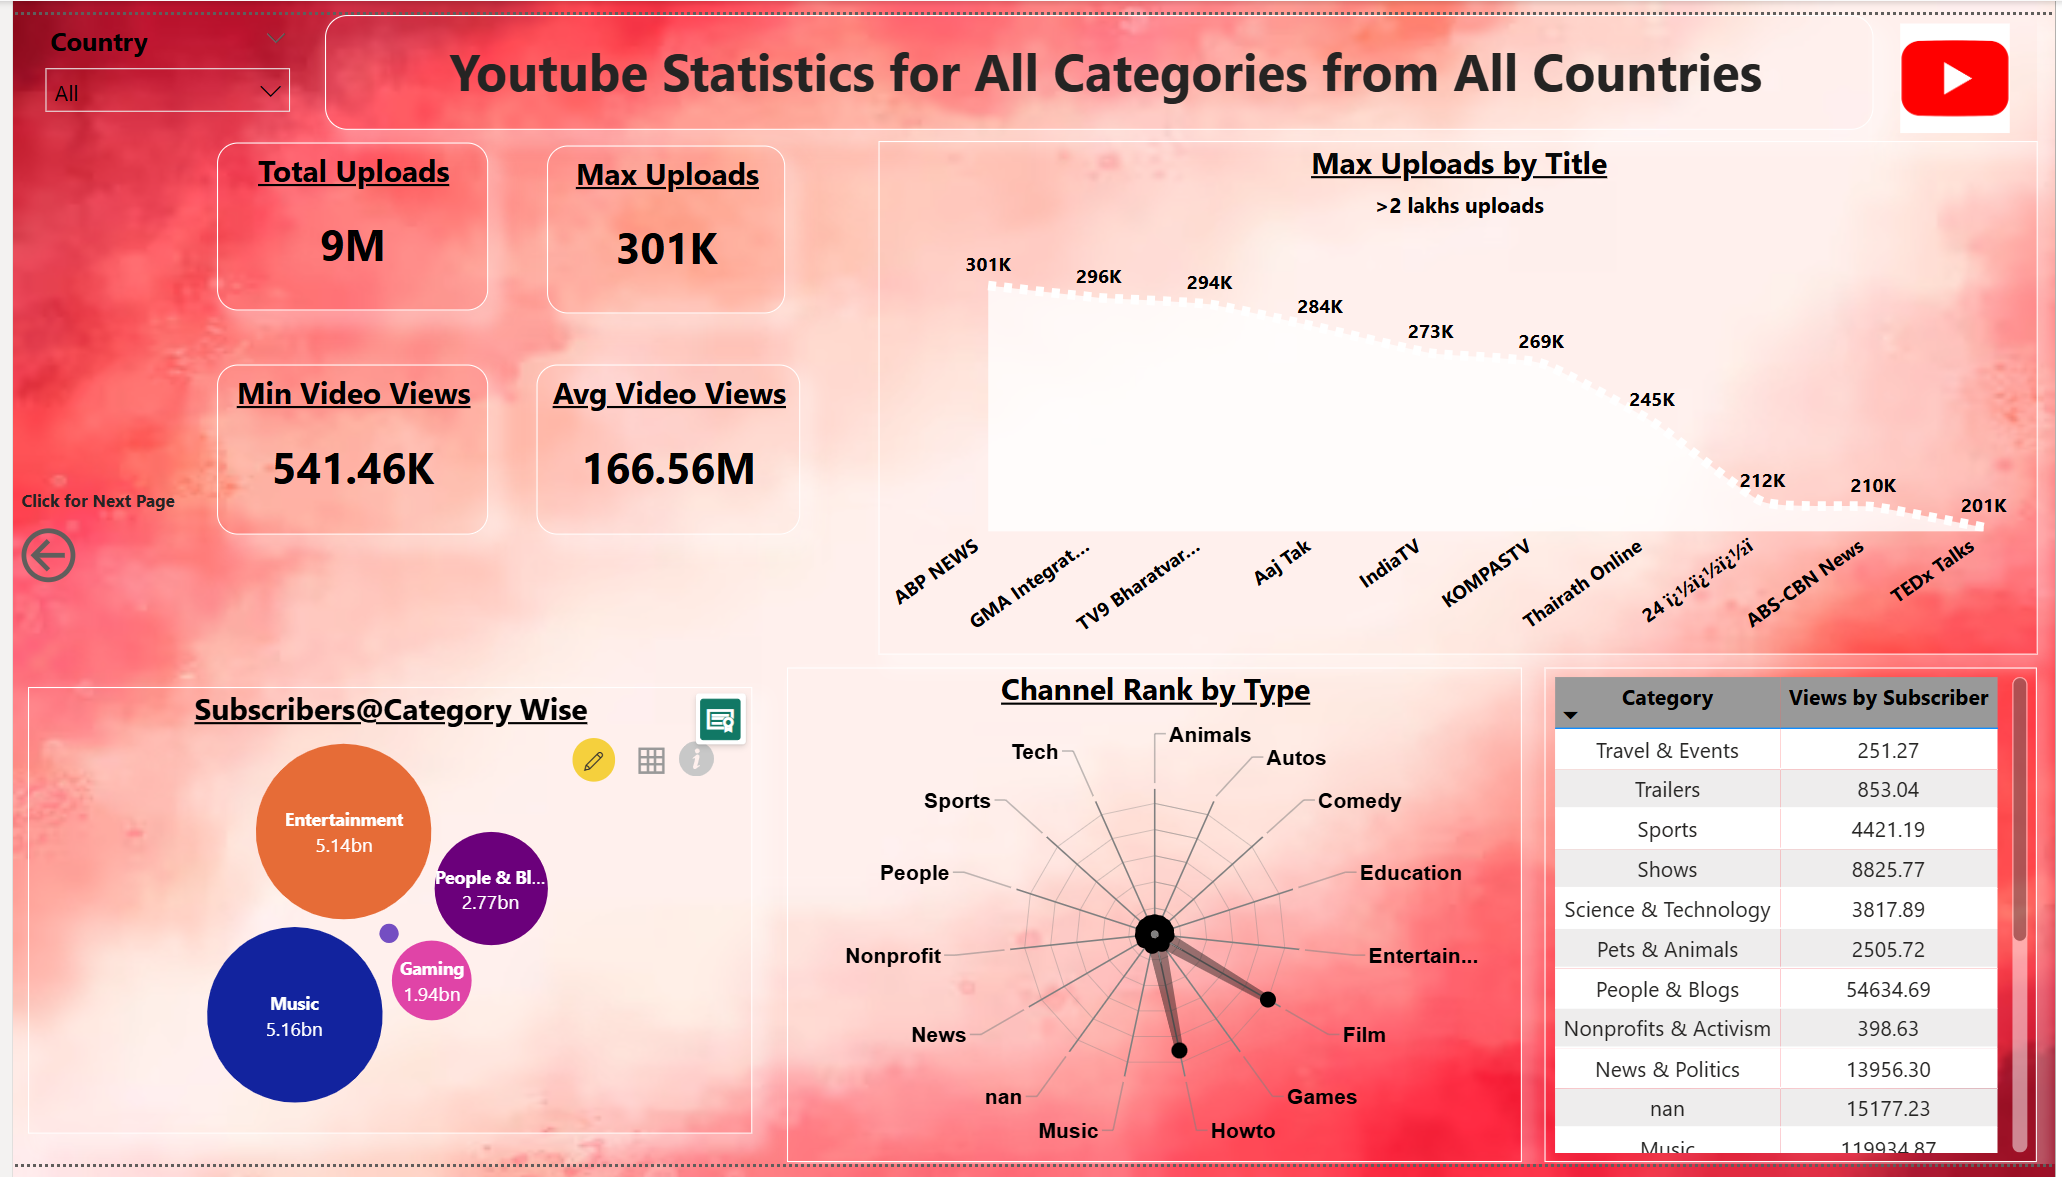

What the dashboard file says about the page in this screenshot:
{"tool":"powerbi","page":{"name":"Statistics 1","canvas":[1280,720],"ordinal":0},"visuals":[{"type":"card","title":"Max Uploads","fields":{"Values":["Max(Global YouTube Statistics.uploads)"]},"box":[335.2,81.4,149.6,105.3],"z":0},{"type":"card","title":"Min Video Views","fields":{"Values":["Avg(Global YouTube Statistics.video_views_rank)"]},"box":[128.1,219.1,170,106.5],"z":1000},{"type":"card","title":"Avg Video Views","fields":{"Values":["Avg(Global YouTube Statistics.video_views_for_the_last_30_days)"]},"box":[328,219.1,165.2,106.5],"z":2000},{"type":"image","box":[1164.7,0,104.1,79],"z":3000},{"type":"lineChart","title":"Max Uploads by Title","fields":{"Category":["Global YouTube Statistics.Title"],"Y":["Max(Global YouTube Statistics.uploads)"]},"box":[542.2,79,726.6,322],"z":4000},{"type":"RadarChart1446119667547","title":"Channel Rank by Type","fields":{"Category":["Global YouTube Statistics.channel_type"],"Y":["Min(Global YouTube Statistics.channel_type_rank)"]},"box":[484.8,409.4,460.9,310],"z":5000},{"type":"packedBubble563FBEFA65CC43A48496B6BB533D9890","title":"Subscribers@Category Wise","fields":{"category":["Global YouTube Statistics.category"],"measure":["Sum(Global YouTube Statistics.subscribers)"]},"box":[9.6,421.3,453.7,280.1],"z":6000},{"type":"tableEx","fields":{"Values":["Global YouTube Statistics.category","Sum(Global YouTube Statistics.Viewed by Subscriber)"]},"box":[960,409.4,308.8,310],"z":7000},{"type":"card","title":"Total Uploads","fields":{"Values":["Global YouTube Statistics.Total uploads"]},"box":[128.1,80.2,170,105.3],"z":8000},{"type":"card","fields":{"Values":["Global YouTube Statistics.Display"]},"box":[195.1,0,970.8,71.8],"z":9000},{"type":"slicer","fields":{"Values":["Global YouTube Statistics.Country"]},"box":[10.8,0,173.6,71.8],"z":10000},{"type":"actionButton","title":"Click for Next Page","box":[0,296.9,106.5,63.4],"z":11000}]}

Visuals, with their boxes in screenshot pixels (x1, y1, x2, y2), scaled from the page's 1280x720 canvas onto the 2062x1177 screenshot:
"Max Uploads" card: region(540, 133, 781, 305)
"Min Video Views" card: region(206, 358, 480, 532)
"Avg Video Views" card: region(528, 358, 795, 532)
image: region(1876, 0, 2044, 129)
"Max Uploads by Title" lineChart: region(873, 129, 2044, 656)
"Channel Rank by Type" RadarChart1446119667547: region(781, 669, 1523, 1176)
"Subscribers@Category Wise" packedBubble563FBEFA65CC43A48496B6BB533D9890: region(15, 689, 746, 1147)
tableEx - Global YouTube Statistics.category x Sum(Global YouTube Statistics.Viewed by Subscriber): region(1546, 669, 2044, 1176)
"Total Uploads" card: region(206, 131, 480, 303)
card - Global YouTube Statistics.Display: region(314, 0, 1878, 117)
slicer - Global YouTube Statistics.Country: region(17, 0, 297, 117)
"Click for Next Page" actionButton: region(0, 485, 172, 589)
